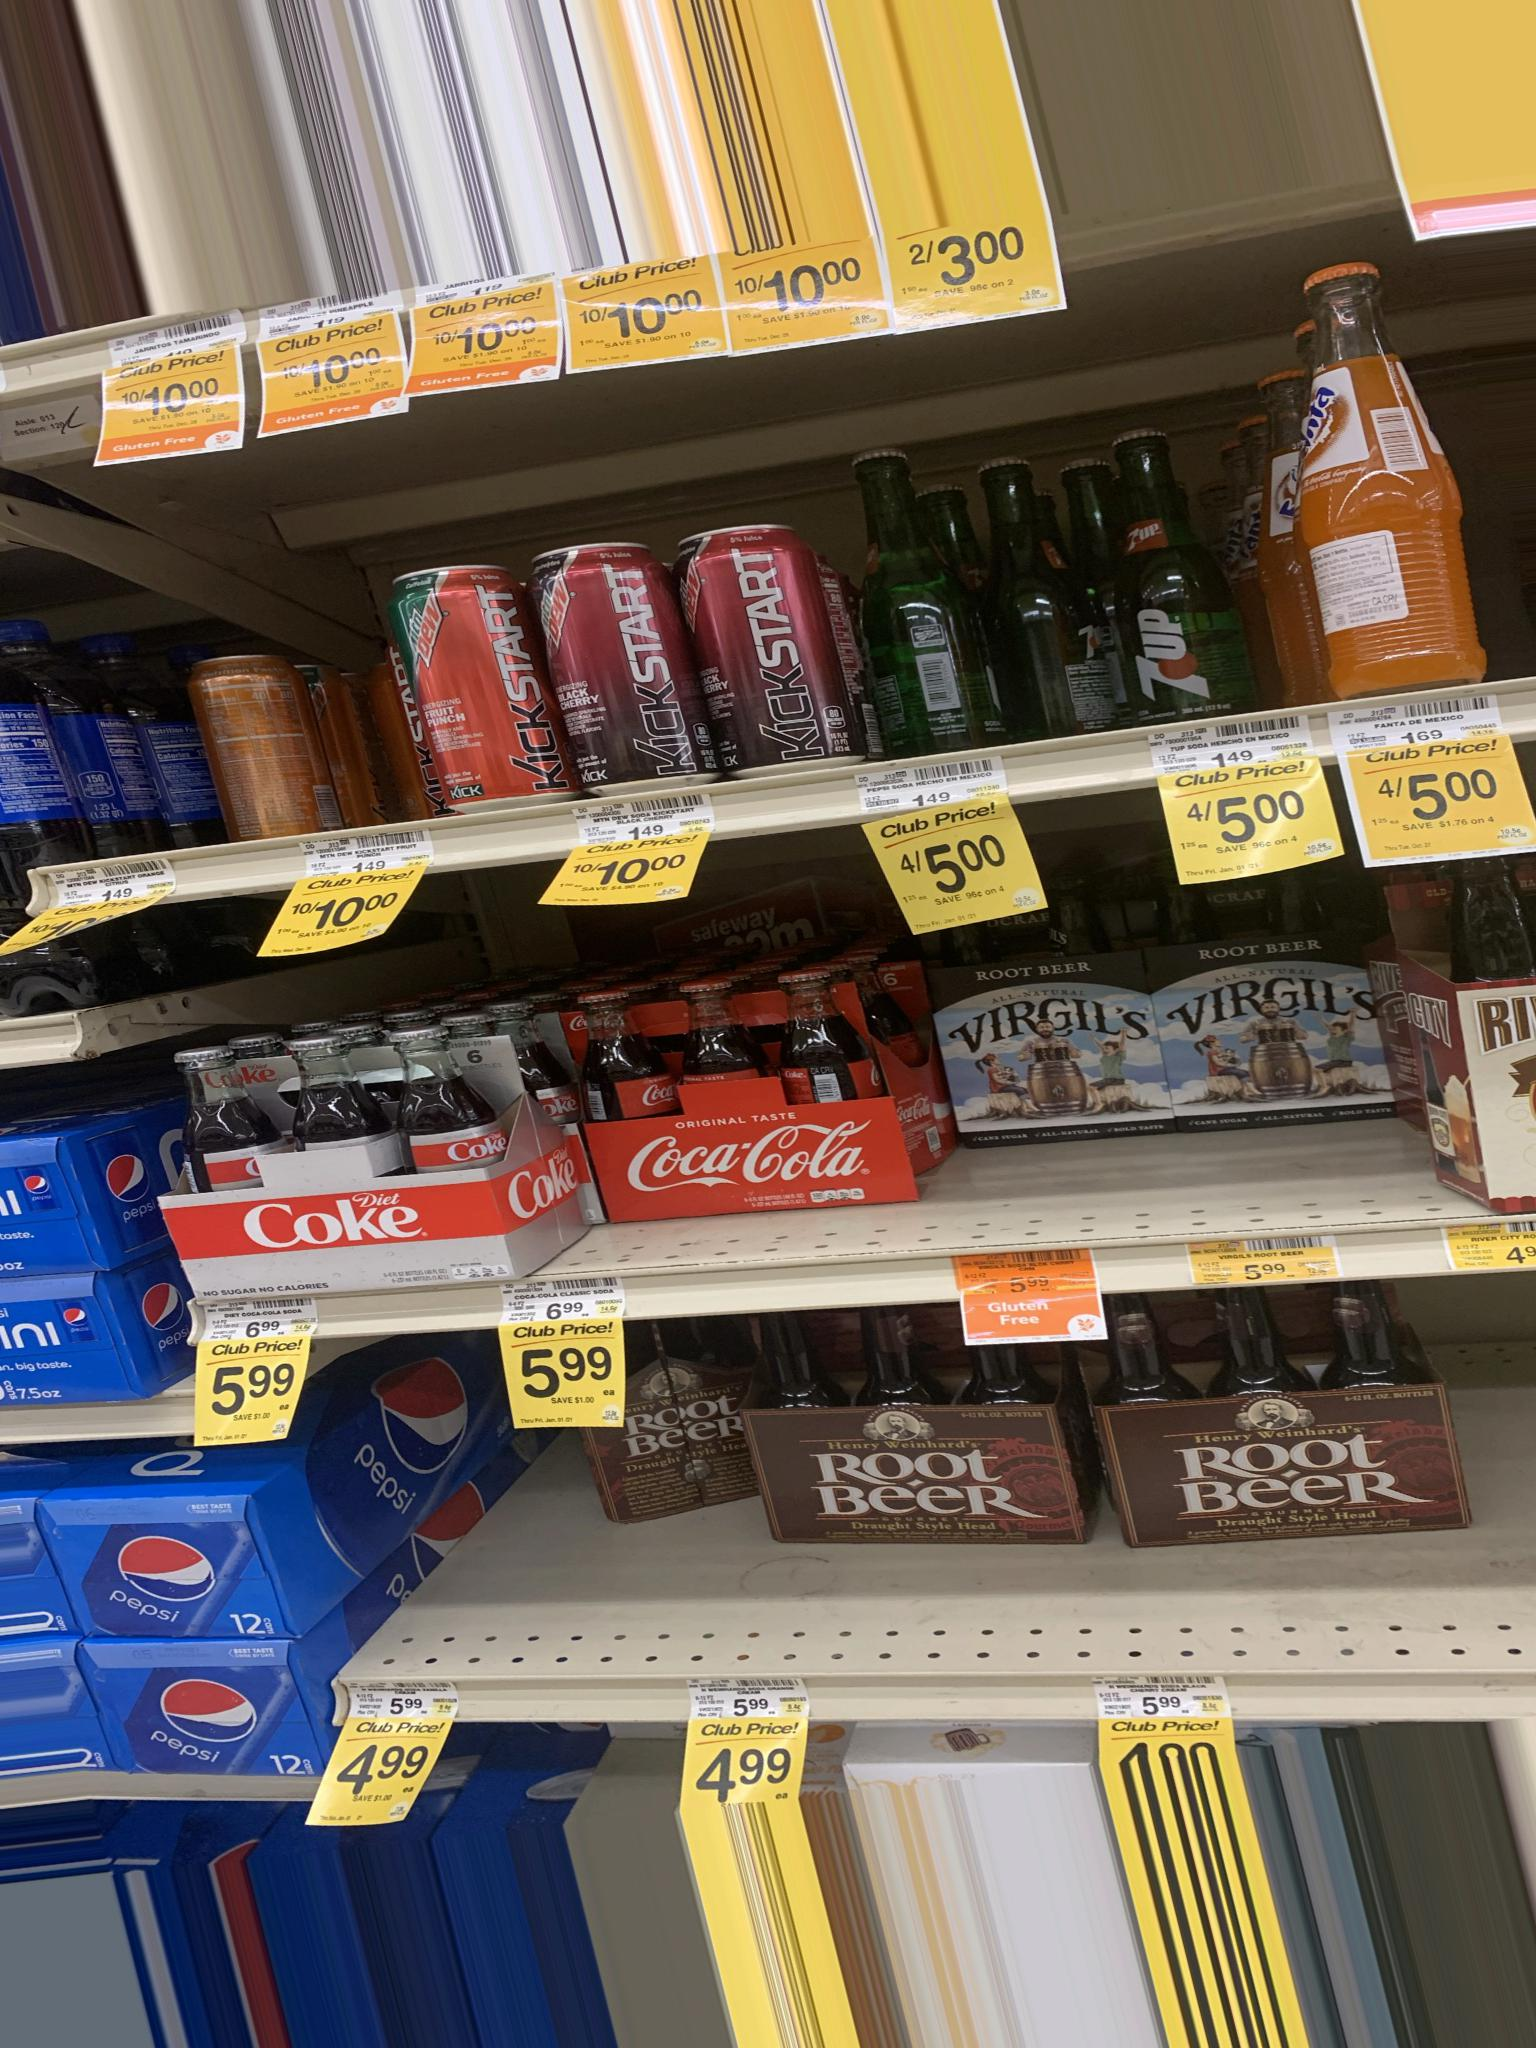soda: (181, 1047, 528, 1290), (1115, 1321, 1439, 1519), (578, 985, 887, 1192), (762, 1335, 1058, 1538), (53, 1484, 274, 1646), (79, 1642, 326, 1784)
